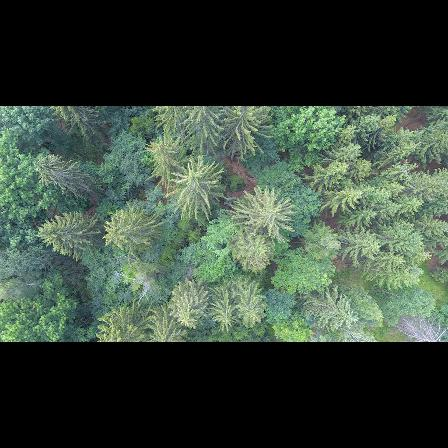Dead: (391, 312, 448, 342)
